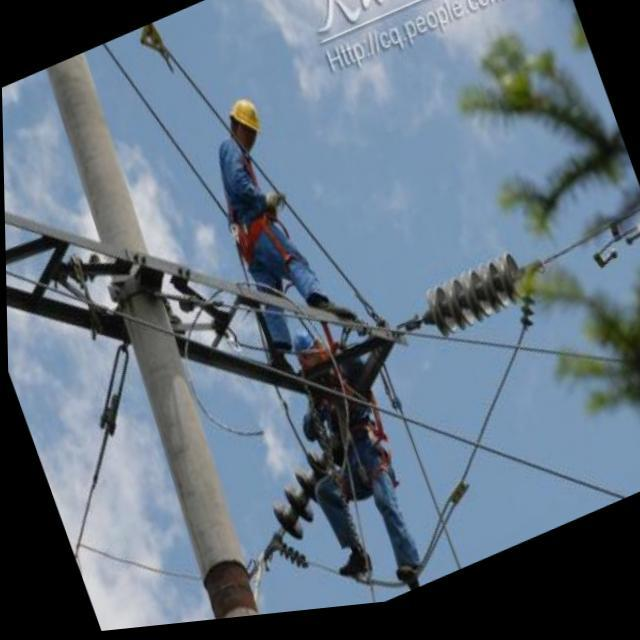belt: (227, 210, 276, 262)
